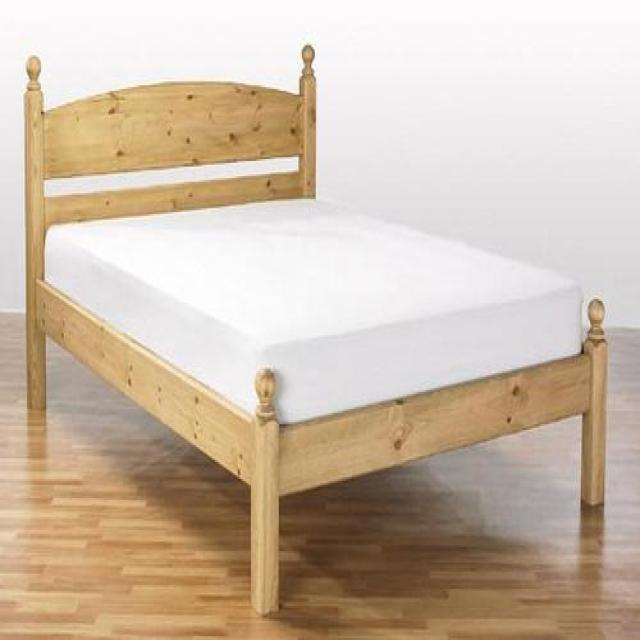bed: (22, 45, 610, 619)
